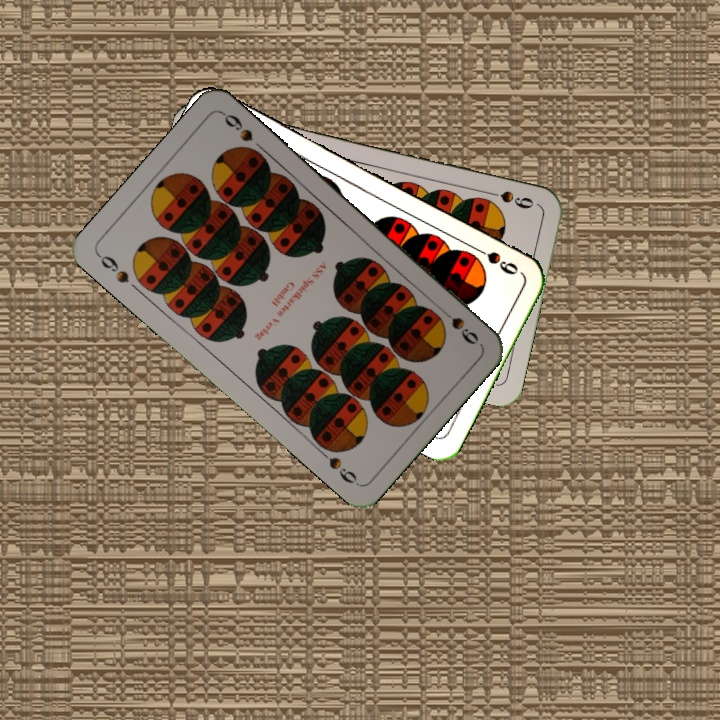S9: (435, 303, 481, 348), (468, 242, 521, 278), (479, 186, 537, 212), (93, 250, 132, 286)
